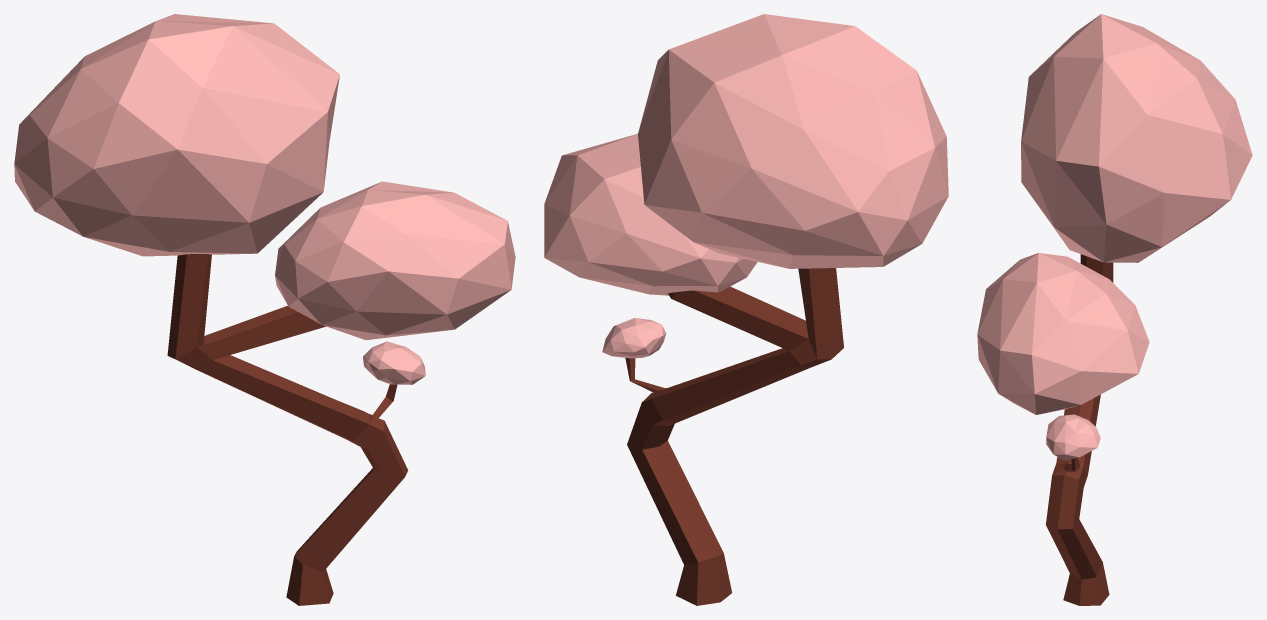
The model's file is tree6.fbx.
The picture shows the model from 3 angles, left to right: view 1: azimuth 30°, elevation 25°; view 2: azimuth 150°, elevation 25°; view 3: azimuth 270°, elevation 25°; orthographic projection. The views are drawn at different scales.
Parts seen in each view (by area): view 1: Cherry tree #3; view 2: Cherry tree #3; view 3: Cherry tree #3.
Boxes of the visible parts, x1,y1,x2,y2 form: Cherry tree #3: (14, 14, 515, 605); Cherry tree #3: (544, 14, 948, 605); Cherry tree #3: (977, 14, 1252, 605).
Bounding box in the file's own units: 361 × 480 × 231.
